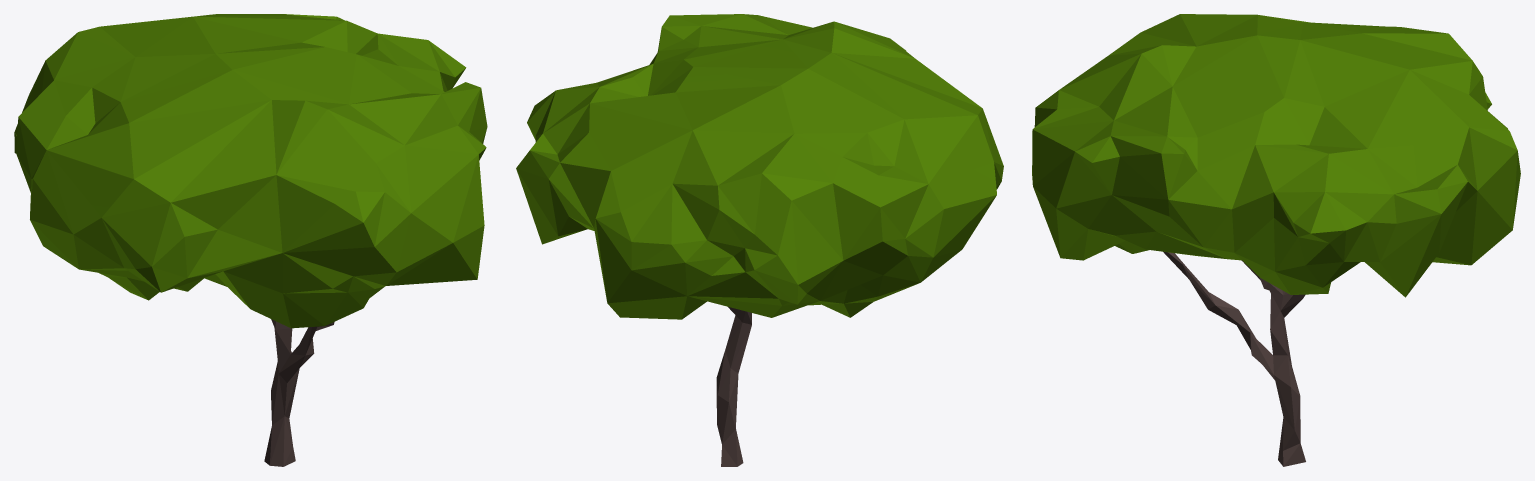
The model's file is tree-alt.glb.
3 renders of one model, left to right at view 1: azimuth 30°, elevation 25°; view 2: azimuth 150°, elevation 25°; view 3: azimuth 270°, elevation 25°, orthographic. The views are drawn at different scales.
Parts seen in each view (by area): view 1: PaperTrees.055; view 2: PaperTrees.055; view 3: PaperTrees.055.
Part boxes in pixels (x1,y1,x2,y2): PaperTrees.055: [14, 14, 487, 466]; PaperTrees.055: [516, 14, 1003, 466]; PaperTrees.055: [1032, 14, 1520, 466].
Bounding box in the file's own units: 14.3 × 13.01 × 14.54.
